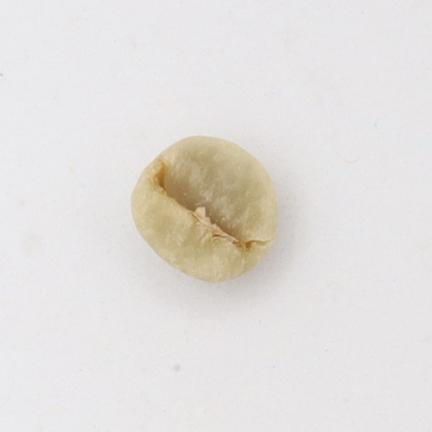immature: (132, 137, 277, 281)
